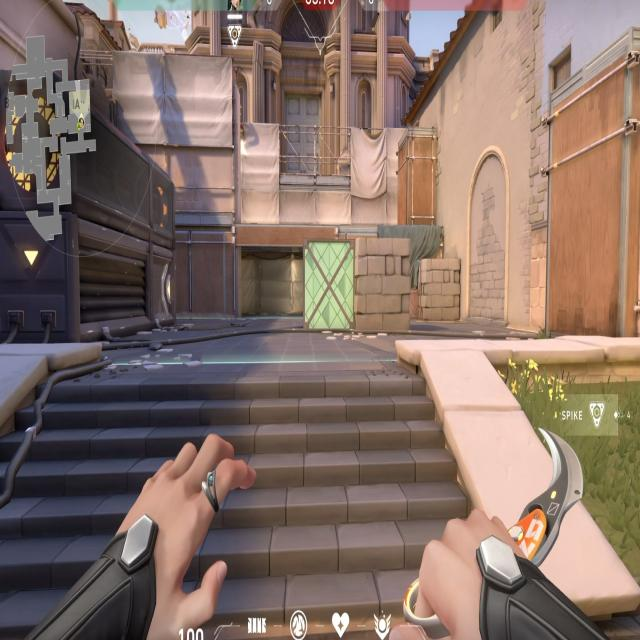A_Heaven_Box: (396, 125, 441, 228)
A_Heaven_Wall: (75, 54, 242, 230)
A_Hell: (232, 221, 344, 338)
A_Site_Box: (299, 225, 418, 352)
